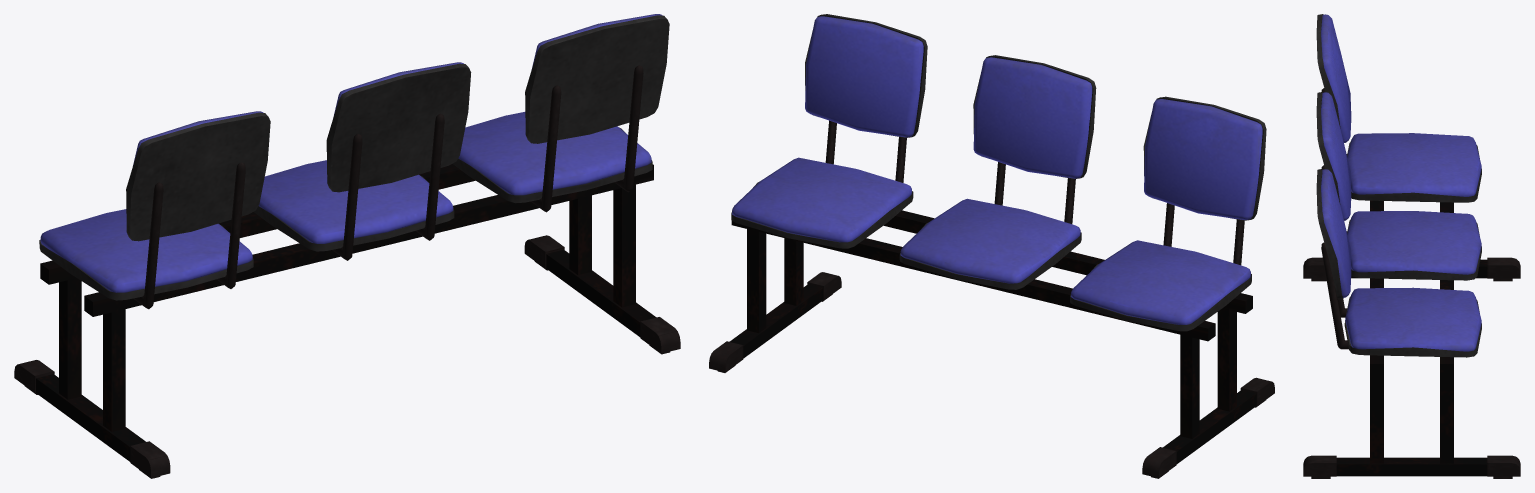
File: Cadeira_de_Espera.fbx
The picture shows the model from 3 angles, left to right: view 1: azimuth 30°, elevation 25°; view 2: azimuth 150°, elevation 25°; view 3: azimuth 270°, elevation 25°; orthographic projection. The views are drawn at different scales.
Visible parts, largest first — view 1: Cadeira_de_Espera; view 2: Cadeira_de_Espera; view 3: Cadeira_de_Espera.
Boxes of the visible parts, <box> form: Cadeira_de_Espera: <box>14,14,680,478</box>; Cadeira_de_Espera: <box>709,14,1274,478</box>; Cadeira_de_Espera: <box>1303,14,1520,478</box>.
Bounding box in the file's own units: 202 × 116 × 85.25.
